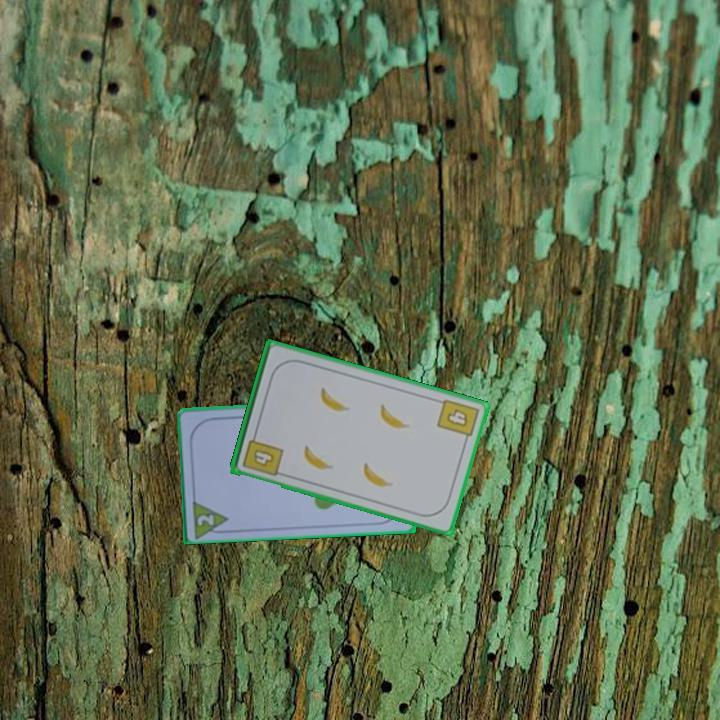2p: (193, 511, 217, 529)
4b: (433, 395, 482, 446), (239, 429, 286, 479)
